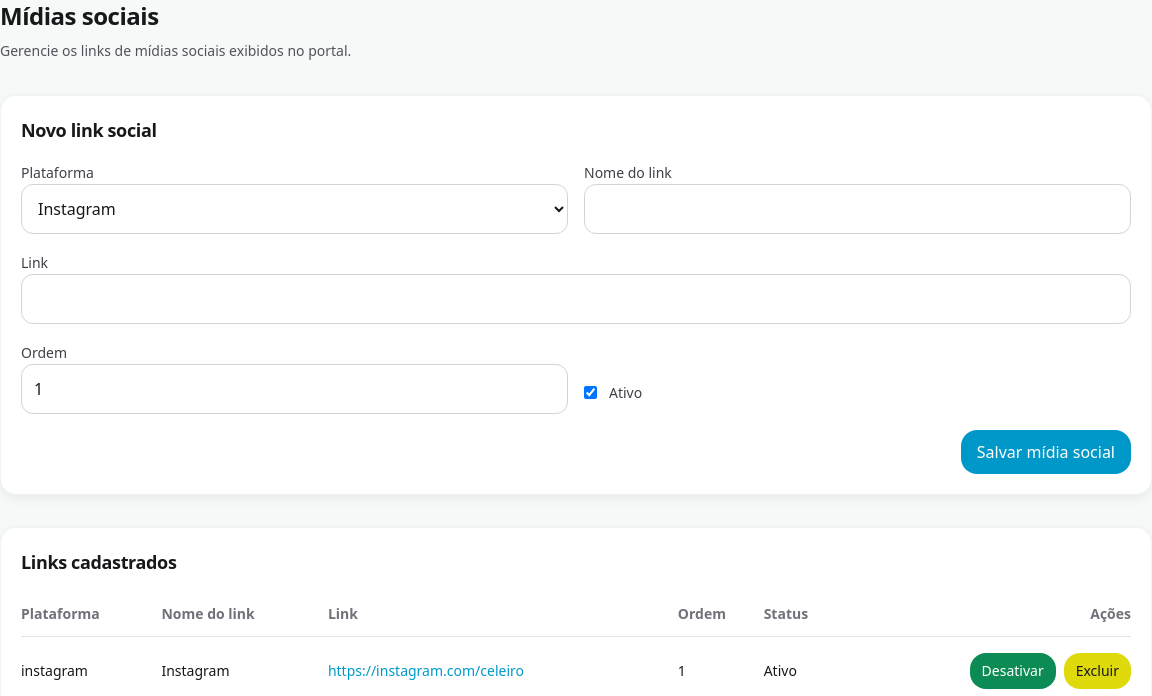
AdminSocialLinksPage › deve alternar status do item
Click the button "Desativar": [1013, 671] box x1=970 y1=653 x2=1056 y2=689
(page scrolled)
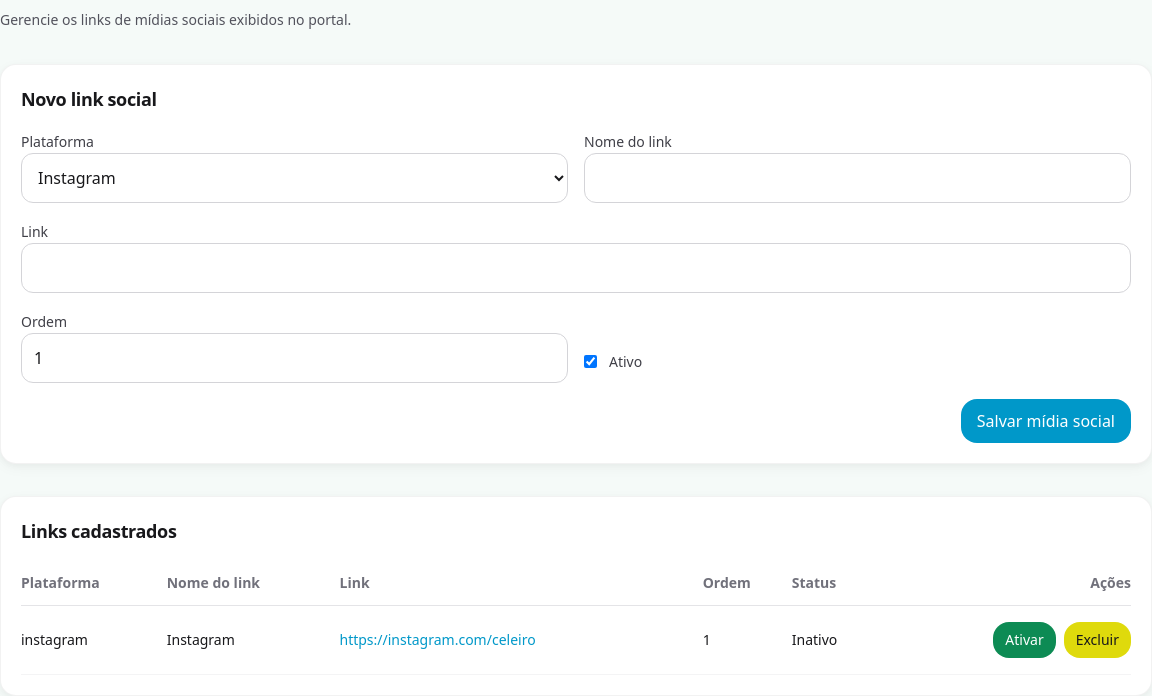
Expected: the text "Inativo" is shown, x1=792 y1=605 x2=876 y2=674
